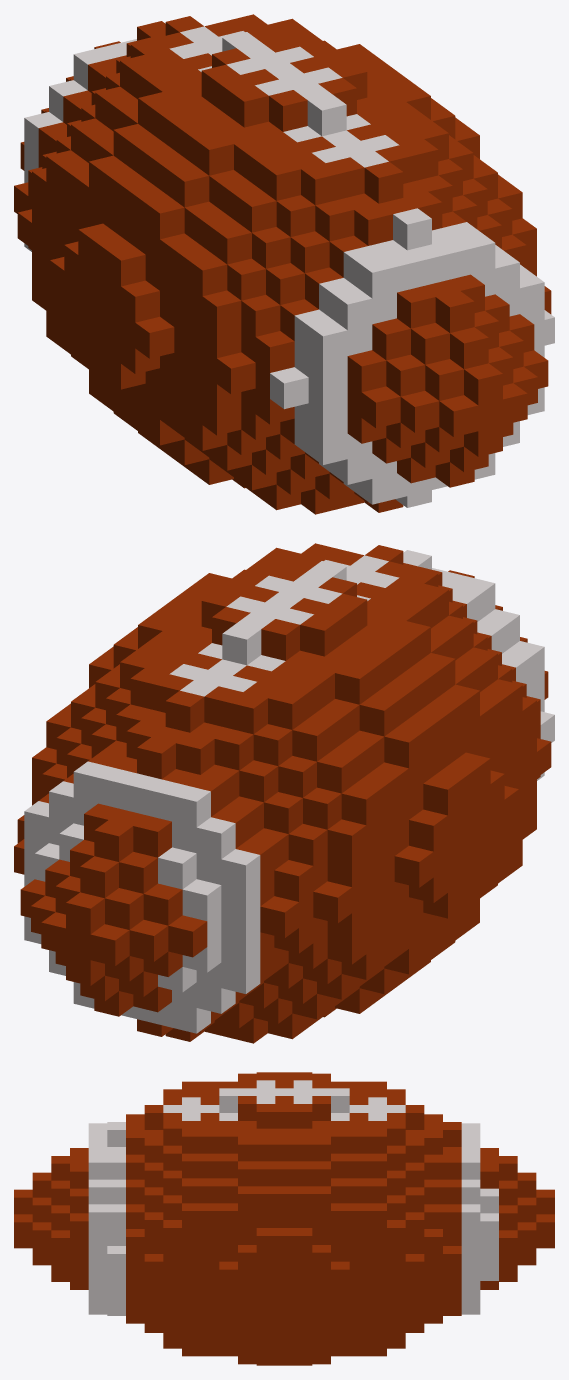
File: American Football.fbx
The picture shows the model from 3 angles, top to bottom: view 1: azimuth 30°, elevation 25°; view 2: azimuth 150°, elevation 25°; view 3: azimuth 270°, elevation 25°; orthographic projection. The views are drawn at different scales.
Parts seen in each view (by area): view 1: Untitled; view 2: Untitled; view 3: Untitled.
Part boxes in pixels (<box>): Untitled: <box>14,14,554,514</box>; Untitled: <box>14,543,554,1043</box>; Untitled: <box>14,1072,554,1365</box>.
Size of the model in its own units: 150 by 150 by 290.
